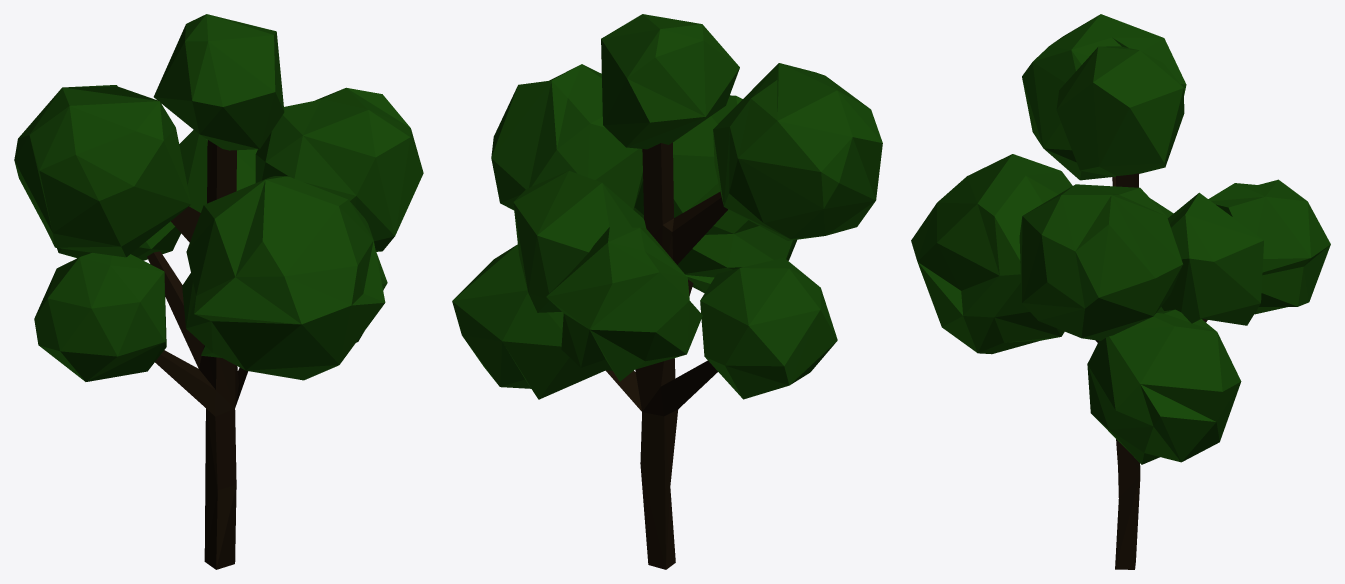
File: tree1_2_00.FBX
3 renders of one model, left to right at view 1: azimuth 30°, elevation 25°; view 2: azimuth 150°, elevation 25°; view 3: azimuth 270°, elevation 25°, orthographic. The views are drawn at different scales.
Visible parts, largest first — view 1: tree1_2_00; view 2: tree1_2_00; view 3: tree1_2_00.
Boxes of the visible parts, <box> form: tree1_2_00: <box>14,14,423,569</box>; tree1_2_00: <box>452,14,882,569</box>; tree1_2_00: <box>911,14,1330,569</box>.
Bounding box in the file's own units: 469 × 635 × 470.
